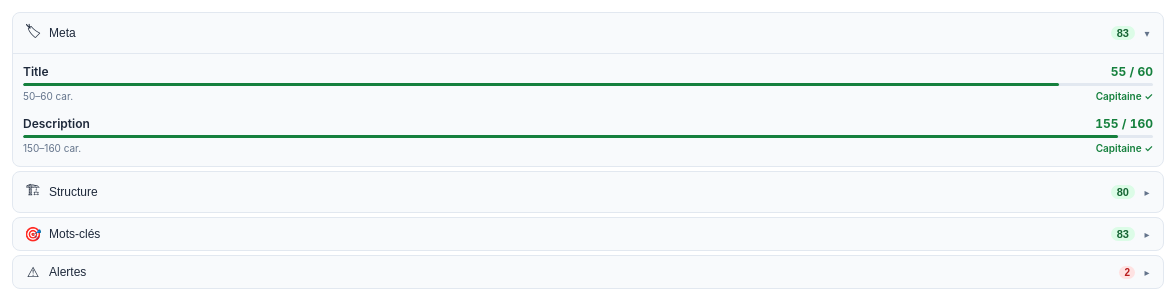
IndicatorsTab › shows density over-optimization warning
What coordinates should you click on to do the following:
click the button with class "card-header" showing "⚠ Alertes 2 ▸"
I would click on:
 (68, 272)
Its box is [13,256,1163,288].
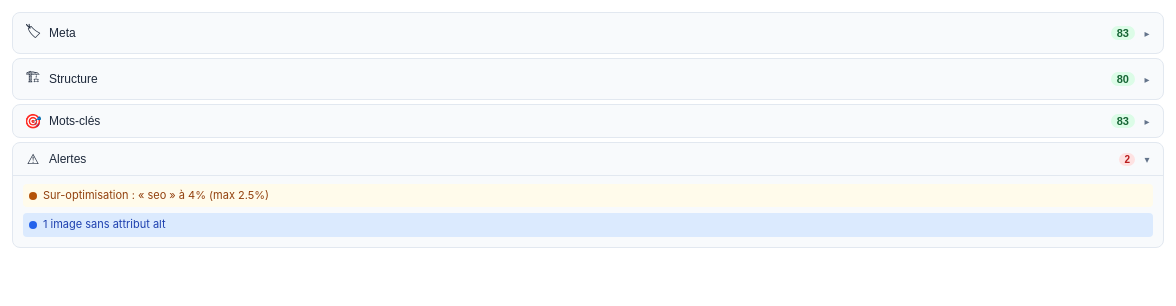
Now the text "Sur-optimisation" is shown, box [43,188,269,202]
